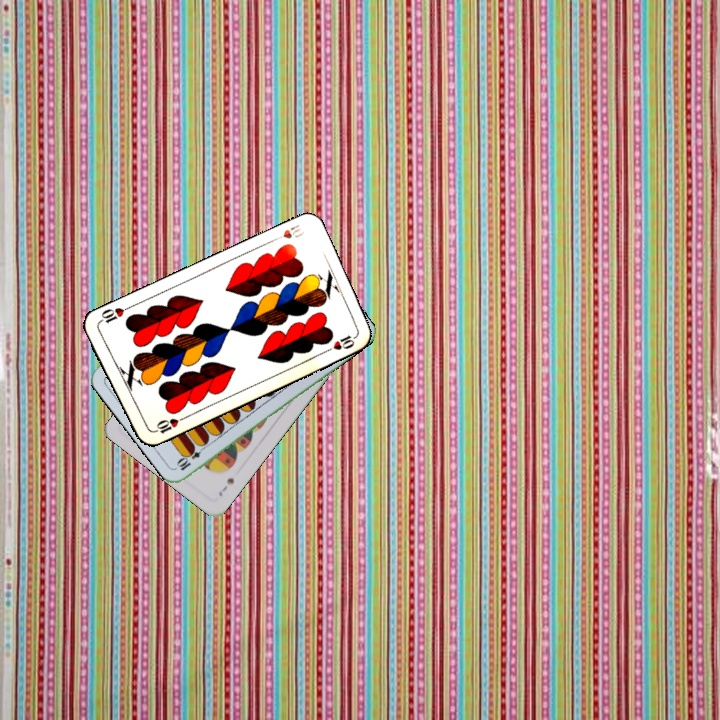E10: (173, 441, 209, 473)
H10: (268, 220, 307, 244), (148, 414, 181, 436)
S7: (214, 473, 237, 499)
